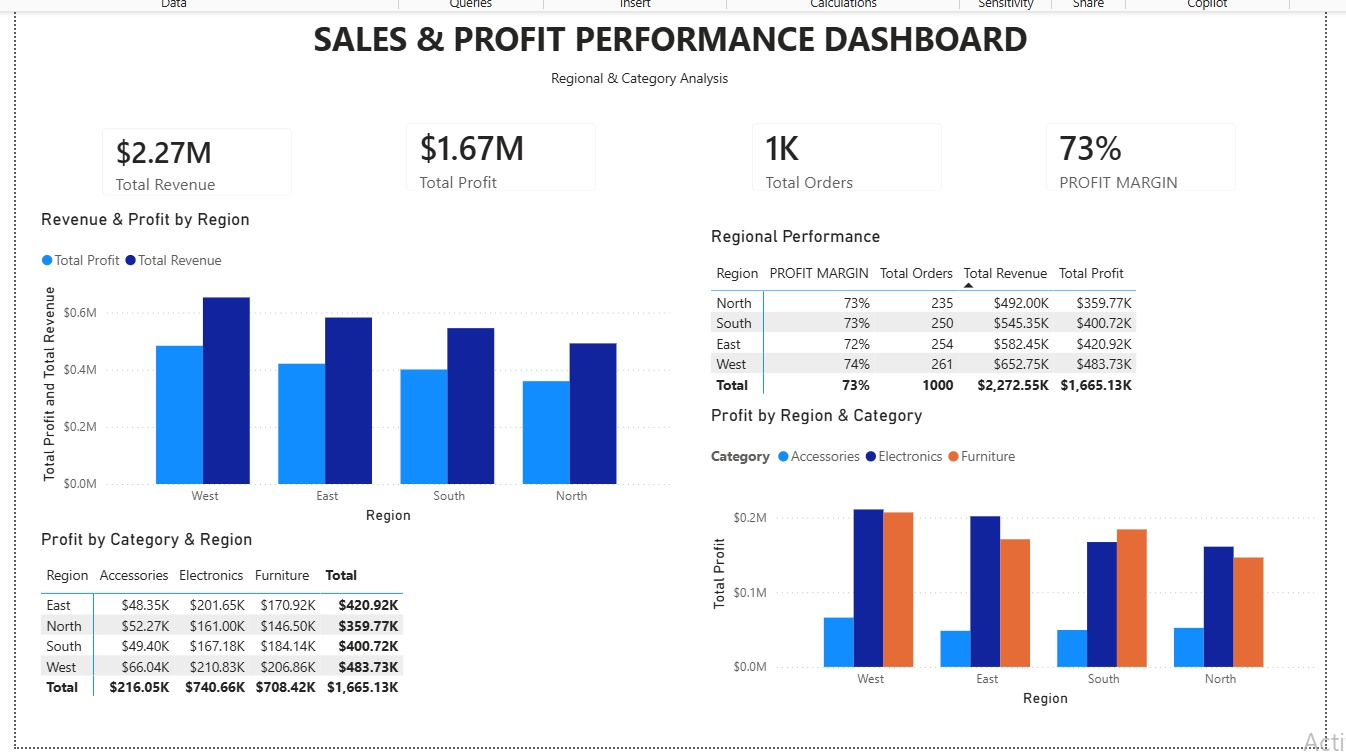

Layout of this report page (visuals, bound fields, positions):
{"tool":"powerbi","page":{"name":"რეგიონებისა და კატეგორიების ანალიზი","canvas":[1280,720],"ordinal":0},"visuals":[{"type":"cardVisual","fields":{"Data":["Transactions.Total Revenue"]},"box":[67.3,97.8,220,100],"z":0},{"type":"cardVisual","fields":{"Data":["Transactions.Total Profit"]},"box":[364.4,92.9,220,100],"z":1000},{"type":"cardVisual","fields":{"Data":["Transactions.Total Orders"]},"box":[703.1,92.9,220,100],"z":2000},{"type":"clusteredColumnChart","title":"Revenue & Profit by Region","fields":{"Category":["Transactions.Region"],"Y":["Transactions.Total Profit","Transactions.Total Revenue"]},"box":[19.6,193.2,624.9,313],"z":3000},{"type":"pivotTable","title":"Regional Performance","fields":{"Rows":["Transactions.Region"],"Values":["Transactions.PROFIT MARGIN","Transactions.Total Orders","Transactions.Total Revenue","Transactions.Total Profit"]},"box":[675,210,600,170],"z":4000},{"type":"clusteredColumnChart","title":"Profit by Region & Category","fields":{"Category":["Transactions.Region"],"Series":["Transactions.Category"],"Y":["Transactions.Total Profit"]},"box":[675,385,600,300],"z":5000},{"type":"pivotTable","title":"Profit by Category & Region","fields":{"Rows":["Transactions.Region"],"Columns":["Transactions.Category"],"Values":["Transactions.Total Profit"]},"box":[19.6,506.3,439,200.5],"z":6000},{"type":"textbox","box":[0,0,1280.3,97.8],"z":7000},{"type":"textbox","box":[518.5,51.4,184.6,35.5],"z":8000},{"type":"cardVisual","fields":{"Data":["Transactions.PROFIT MARGIN"]},"box":[990.5,92.9,220,100],"z":9000}]}

Visuals, with their boxes on the page's 1280x720 design canvas (x1, y1, x2, y2). These are canvas units, not pixel positions in the 1346x755 screenshot, which may show the page scaled, cropped or inside an application window:
cardVisual - Transactions.Total Revenue: pyautogui.locateOnScreen(67, 98, 287, 198)
cardVisual - Transactions.Total Profit: pyautogui.locateOnScreen(364, 93, 584, 193)
cardVisual - Transactions.Total Orders: pyautogui.locateOnScreen(703, 93, 923, 193)
"Revenue & Profit by Region" clusteredColumnChart: pyautogui.locateOnScreen(20, 193, 644, 506)
"Regional Performance" pivotTable: pyautogui.locateOnScreen(675, 210, 1275, 380)
"Profit by Region & Category" clusteredColumnChart: pyautogui.locateOnScreen(675, 385, 1275, 685)
"Profit by Category & Region" pivotTable: pyautogui.locateOnScreen(20, 506, 459, 707)
textbox: pyautogui.locateOnScreen(0, 0, 1280, 98)
textbox: pyautogui.locateOnScreen(518, 51, 703, 87)
cardVisual - Transactions.PROFIT MARGIN: pyautogui.locateOnScreen(990, 93, 1210, 193)
